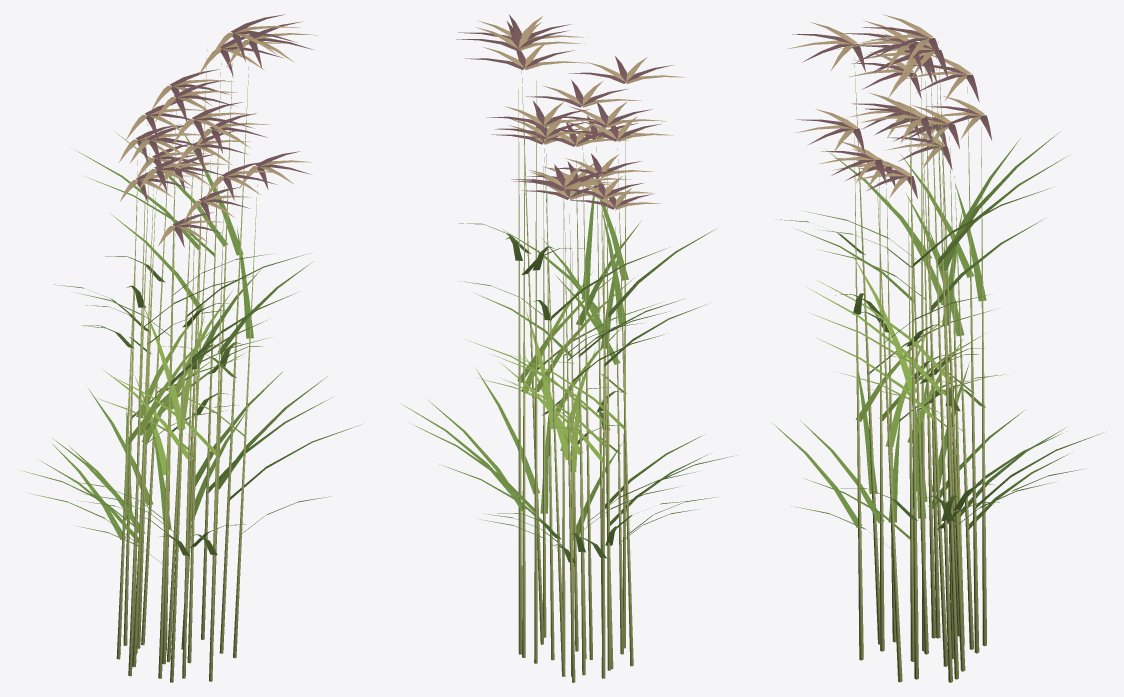
The model's file is reed-a.glb.
3 renders of one model, left to right at view 1: azimuth 30°, elevation 25°; view 2: azimuth 150°, elevation 25°; view 3: azimuth 270°, elevation 25°, orthographic. The views are drawn at different scales.
Parts seen in each view (by area): view 1: reed-a; view 2: reed-a; view 3: reed-a.
Part boxes in pixels (x1,y1,x2,y2): reed-a: (23, 14, 361, 682); reed-a: (402, 14, 736, 682); reed-a: (772, 14, 1103, 682).
Bounding box in the file's own units: 0.5755 × 1.05 × 0.4942.
